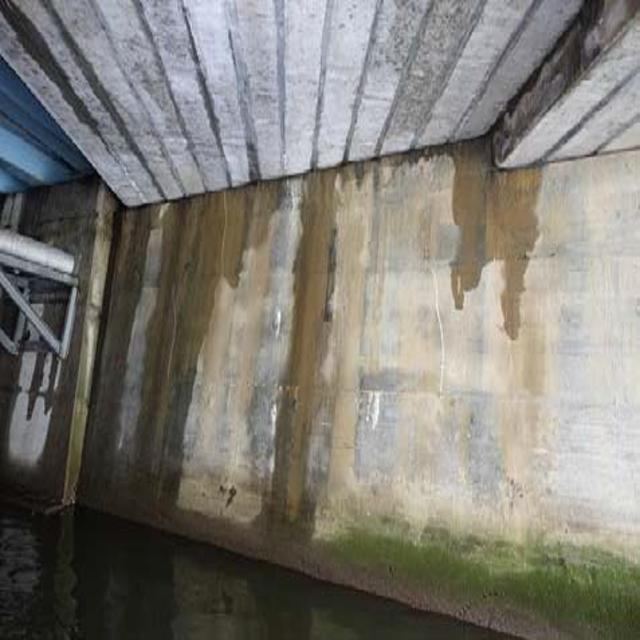leakage: (100, 151, 341, 536), (451, 130, 543, 329)
